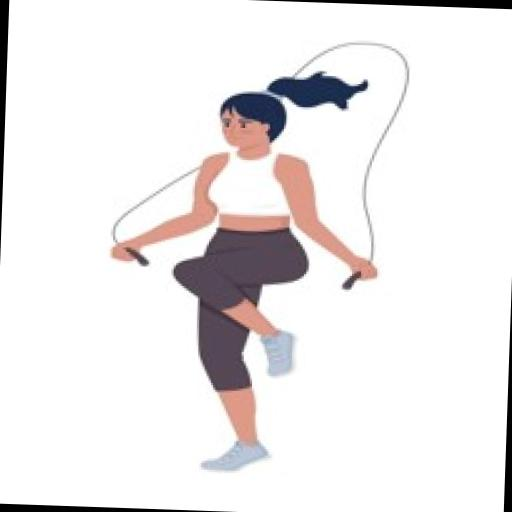human: (86, 58, 391, 487)
